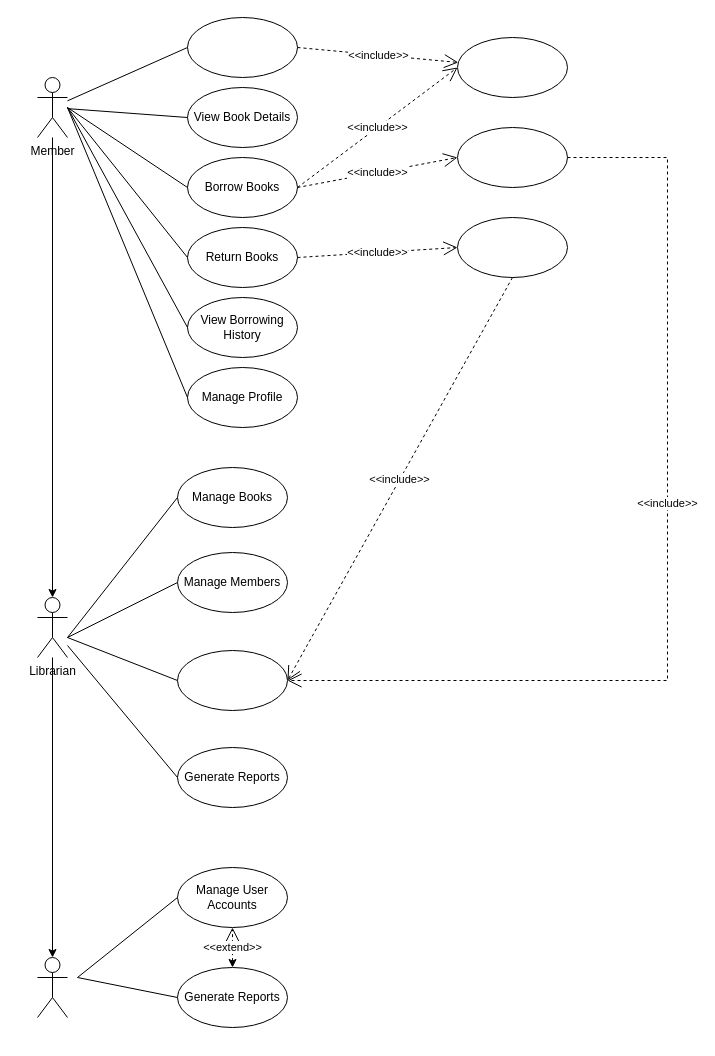
Some shapes in this 715 by 1056 pixel diagram are drawn without their labels. The centre of each missing label's shape, as x and y in pixels:
Administrator: point 52,987
Calculate fine (If any): point 512,247
Check book availability: point 512,67
Process Loans and Returns: point 232,680
Search Books: point 242,47
Verify member information: point 512,157
